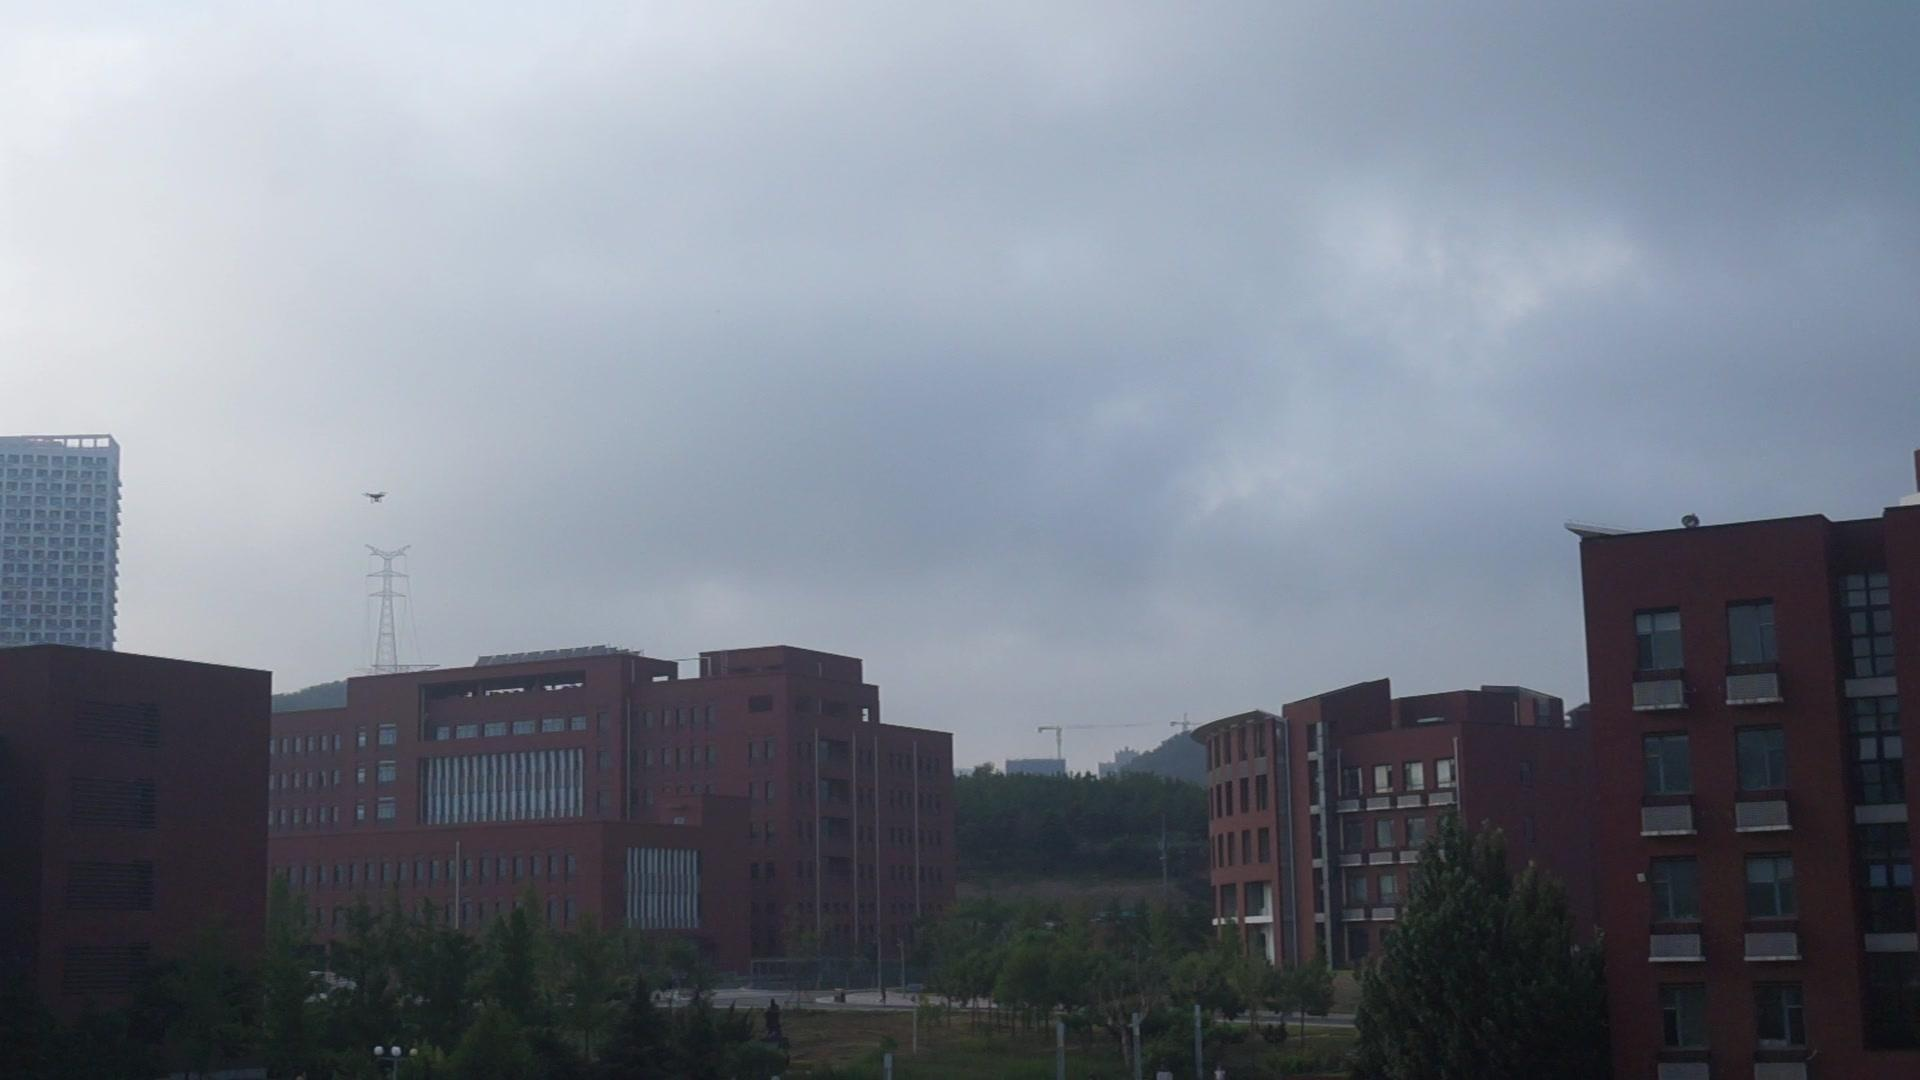UAV: (363, 492, 388, 505)
